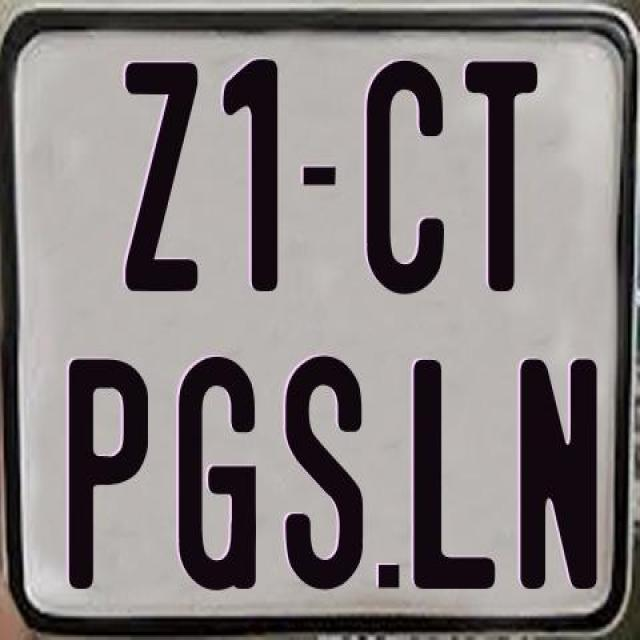1: (222, 54, 278, 290)
C: (364, 58, 442, 292)
G: (178, 356, 258, 590)
L: (413, 357, 500, 590)
N: (520, 357, 598, 596)
P: (69, 354, 156, 588)
S: (282, 352, 360, 589)
T: (466, 58, 538, 292)
Z: (124, 59, 204, 291)
